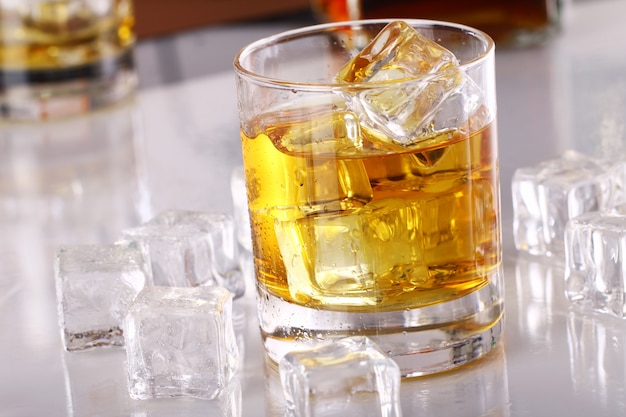alcohol: (233, 18, 506, 376)
